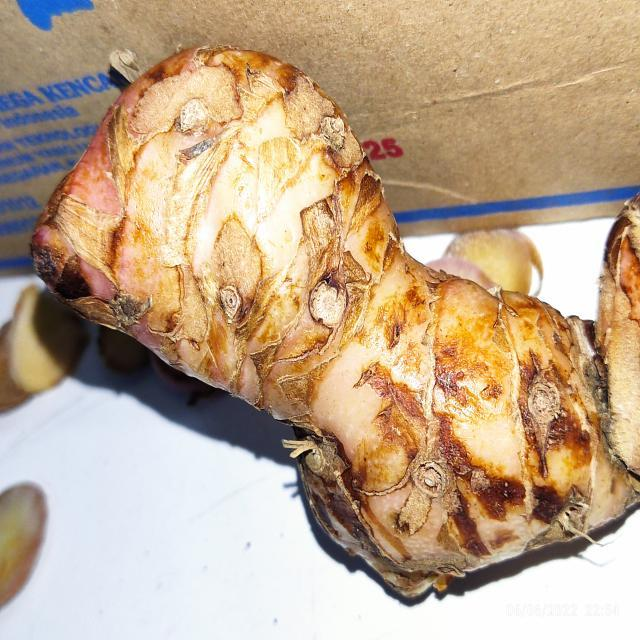ginger: (36, 39, 640, 564)
